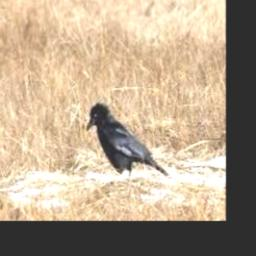Crow: (86, 101, 171, 180)
